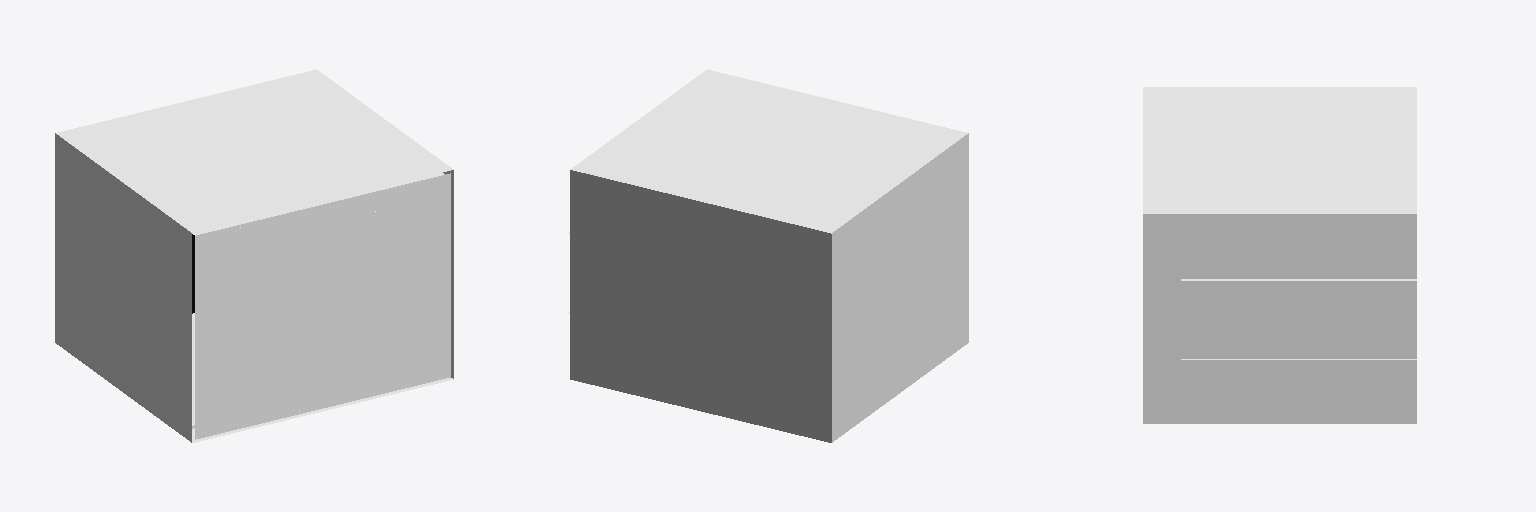
Rendered from testChamber.obj.
3 renders of one model, left to right at view 1: azimuth 30°, elevation 25°; view 2: azimuth 150°, elevation 25°; view 3: azimuth 270°, elevation 25°, orthographic.
Visible parts, largest first — view 1: refPlafond, paroix1, paroiy0, caissonx1, caissony0, caissonx0, caissony1; view 2: dallage, paroix1, paroiy0, caissonx1, caissony0; view 3: paroiy1, paroix1, caissony1, caissonx1.
Part boxes in pixels (x1,y1,x2,y2): refPlafond: (195, 173, 450, 439); paroix1: (56, 69, 439, 223); paroiy0: (55, 133, 178, 432); caissonx1: (180, 160, 453, 233); caissony0: (179, 224, 191, 442); caissonx0: (192, 378, 453, 442); caissony1: (443, 170, 453, 378); dallage: (570, 170, 831, 442); paroix1: (570, 79, 954, 233); paroiy0: (832, 144, 954, 442); caissonx1: (695, 69, 967, 142); caissony0: (955, 133, 968, 352); paroiy1: (1169, 214, 1416, 423); paroix1: (1169, 87, 1416, 213); caissony1: (1143, 214, 1168, 423); caissonx1: (1143, 87, 1168, 213).
Size of the model in its own units: 2.42 by 1.84 by 2.18.